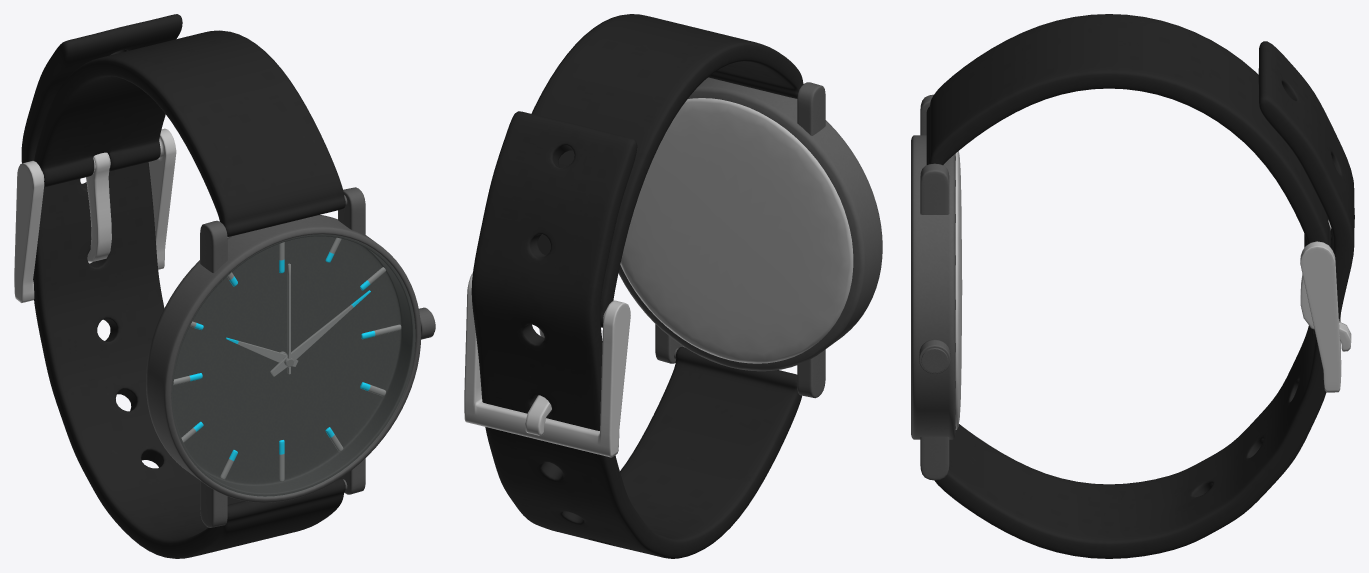
Rendered from watch.glb.
The picture shows the model from 3 angles, left to right: view 1: azimuth 30°, elevation 25°; view 2: azimuth 150°, elevation 25°; view 3: azimuth 270°, elevation 25°; orthographic projection. The views are drawn at different scales.
Parts seen in each view (by area): view 1: HandClock1; view 2: HandClock1; view 3: HandClock1.
Boxes of the visible parts, x1,y1,x2,y2 form: HandClock1: [14, 14, 435, 558]; HandClock1: [464, 14, 882, 558]; HandClock1: [911, 14, 1354, 558].
Size of the model in its own units: 508 by 840 by 691.
1 material, 1 textured.
